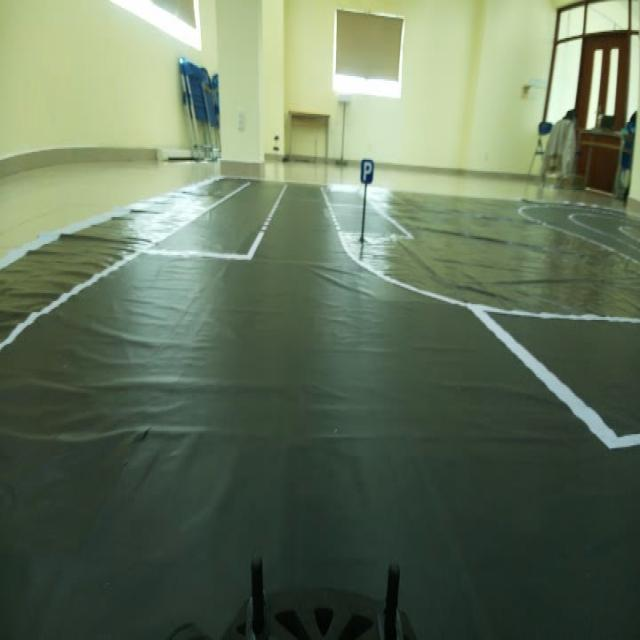parking: (358, 141, 376, 192)
